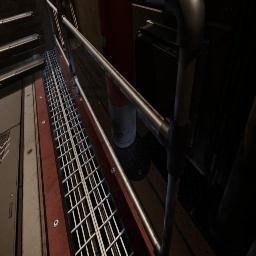NitrogenTank ,: (97, 0, 136, 148)
